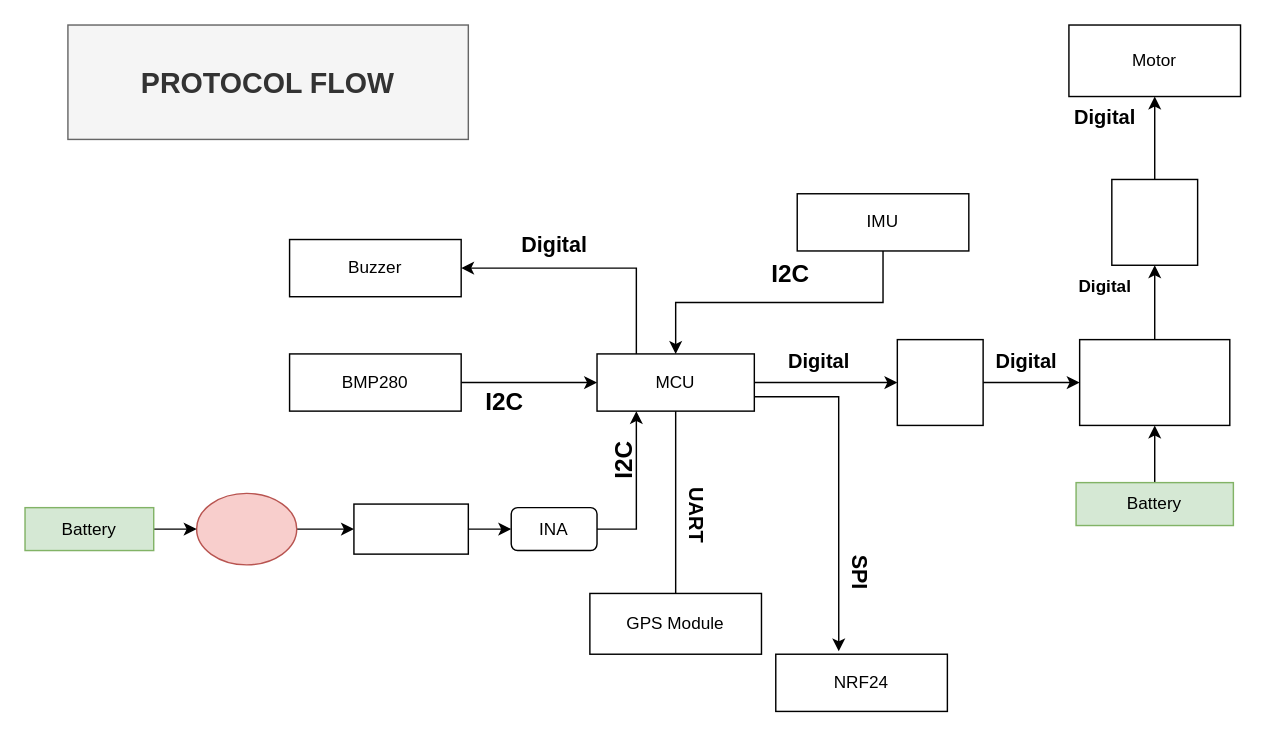
Some shapes in this 1266 by 736 pixel diagram are drawn without their labels. The shapes that lost their labels are listed below. From the top down, each one's centre as x and y in pixels, then its label:
At (1154,221): "ESC".
At (939,381): "TVC".
At (1154,381): "Boost Converter".
At (246,528): "Kill Switch".
At (410,528): "Buck Converer".
